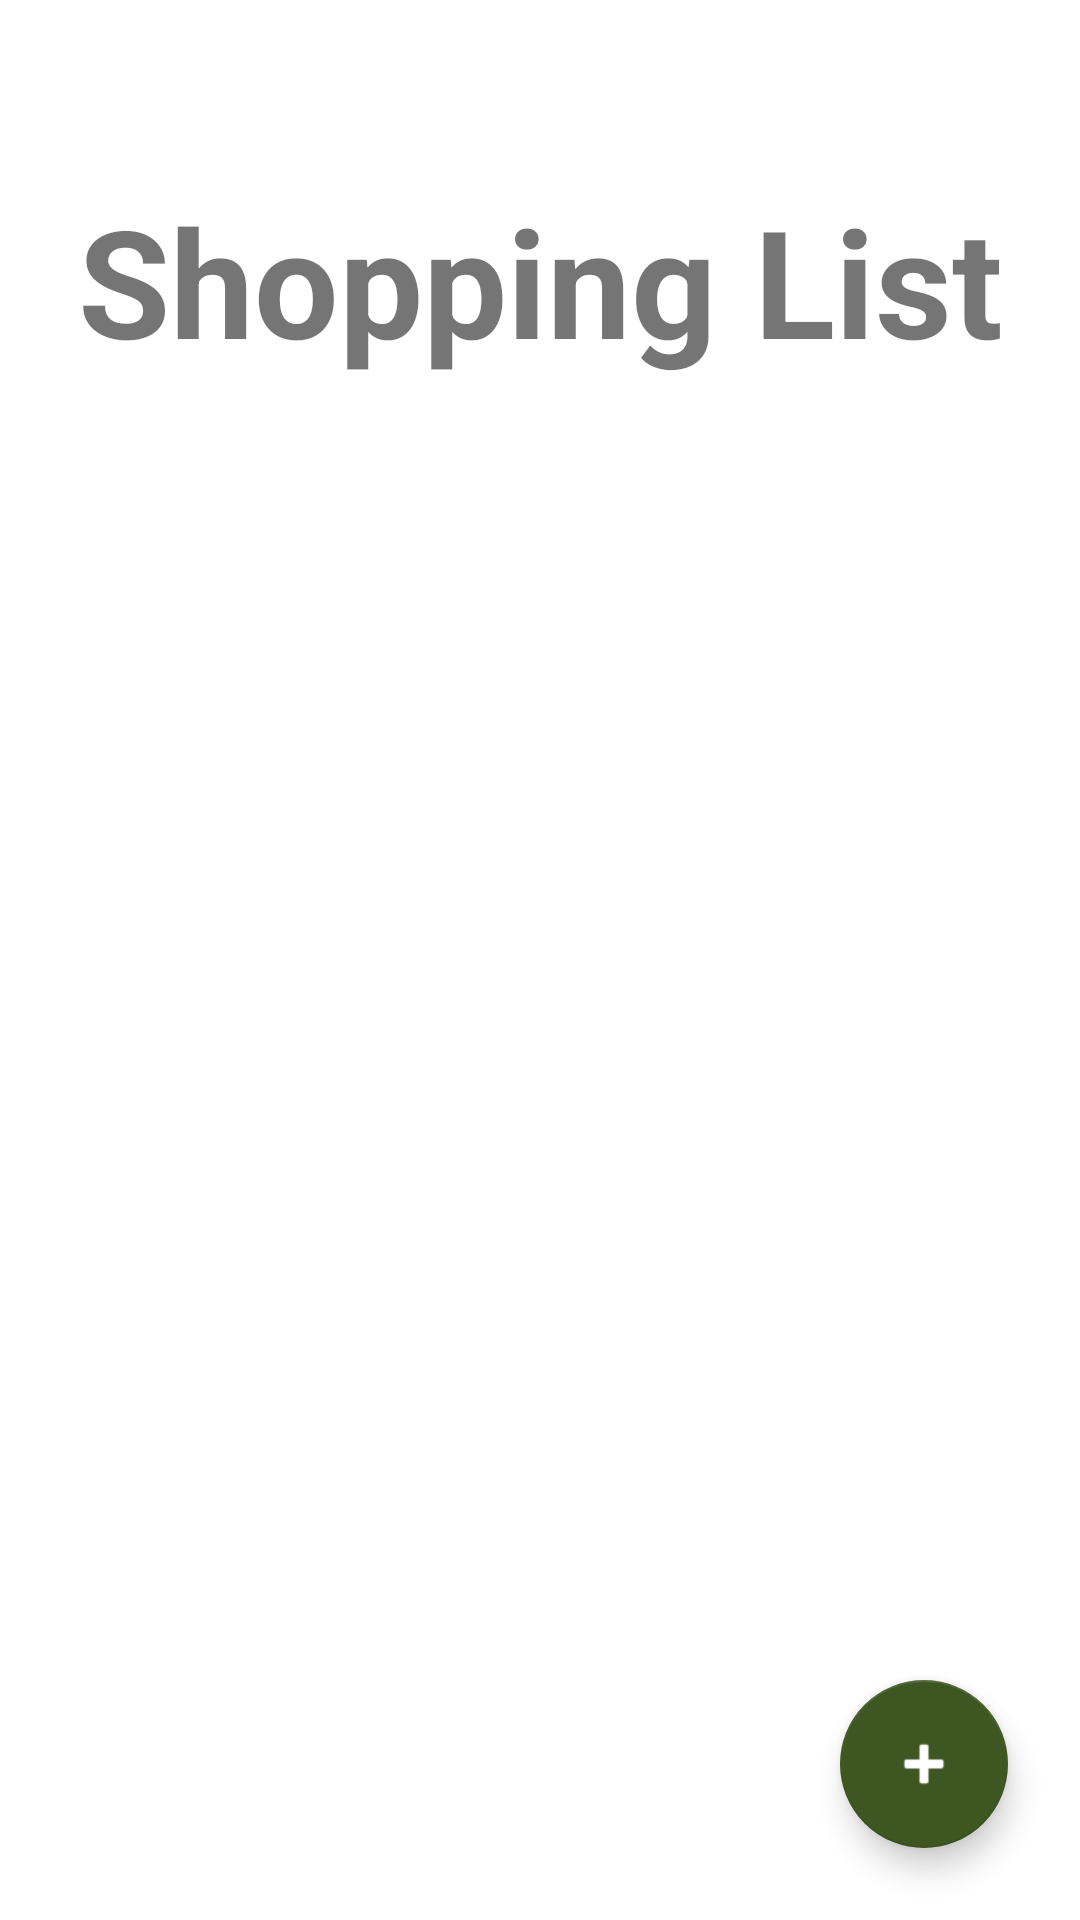

Icon click points for this 1080x1920 phone screenshot, format (x=x, y=y):
Add new list: (x=924, y=1764)
